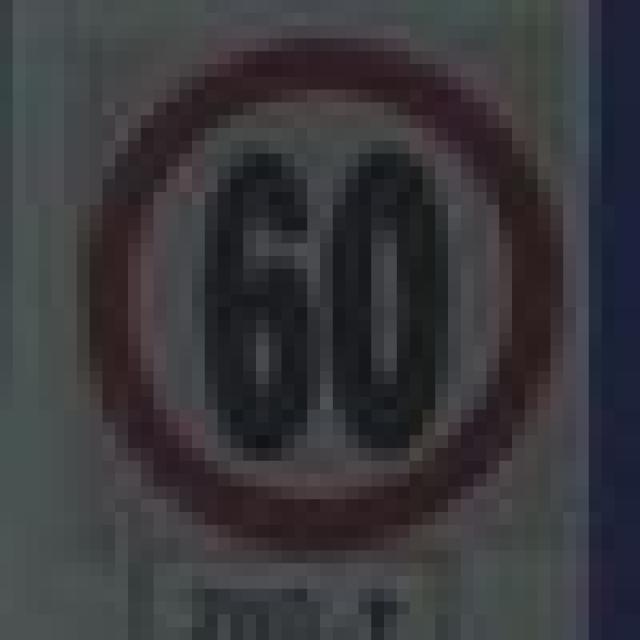speed_limit_40: (76, 26, 538, 524)
